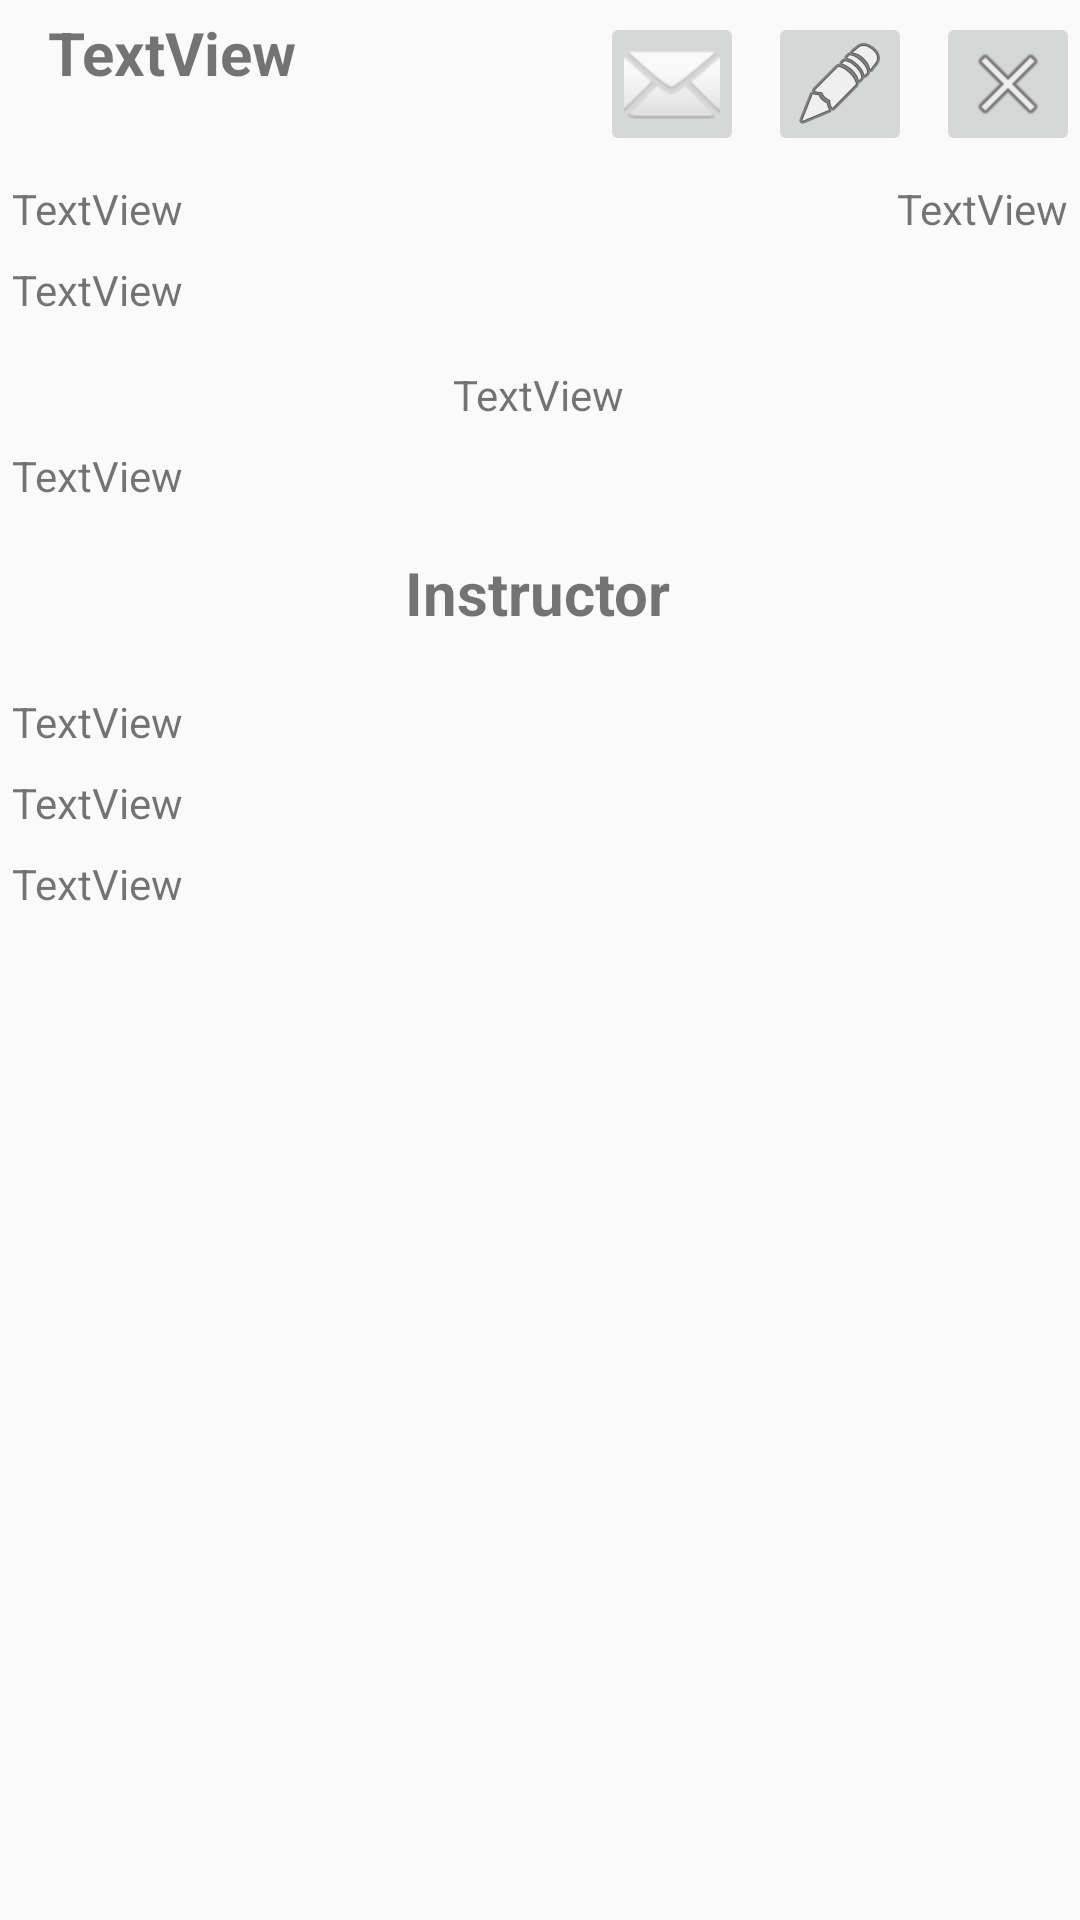

Locate icon controls on the screen. Image size 1080×1920, boxes as bbox(x1, y1, x2, y2).
email: bbox(612, 30, 732, 138)
